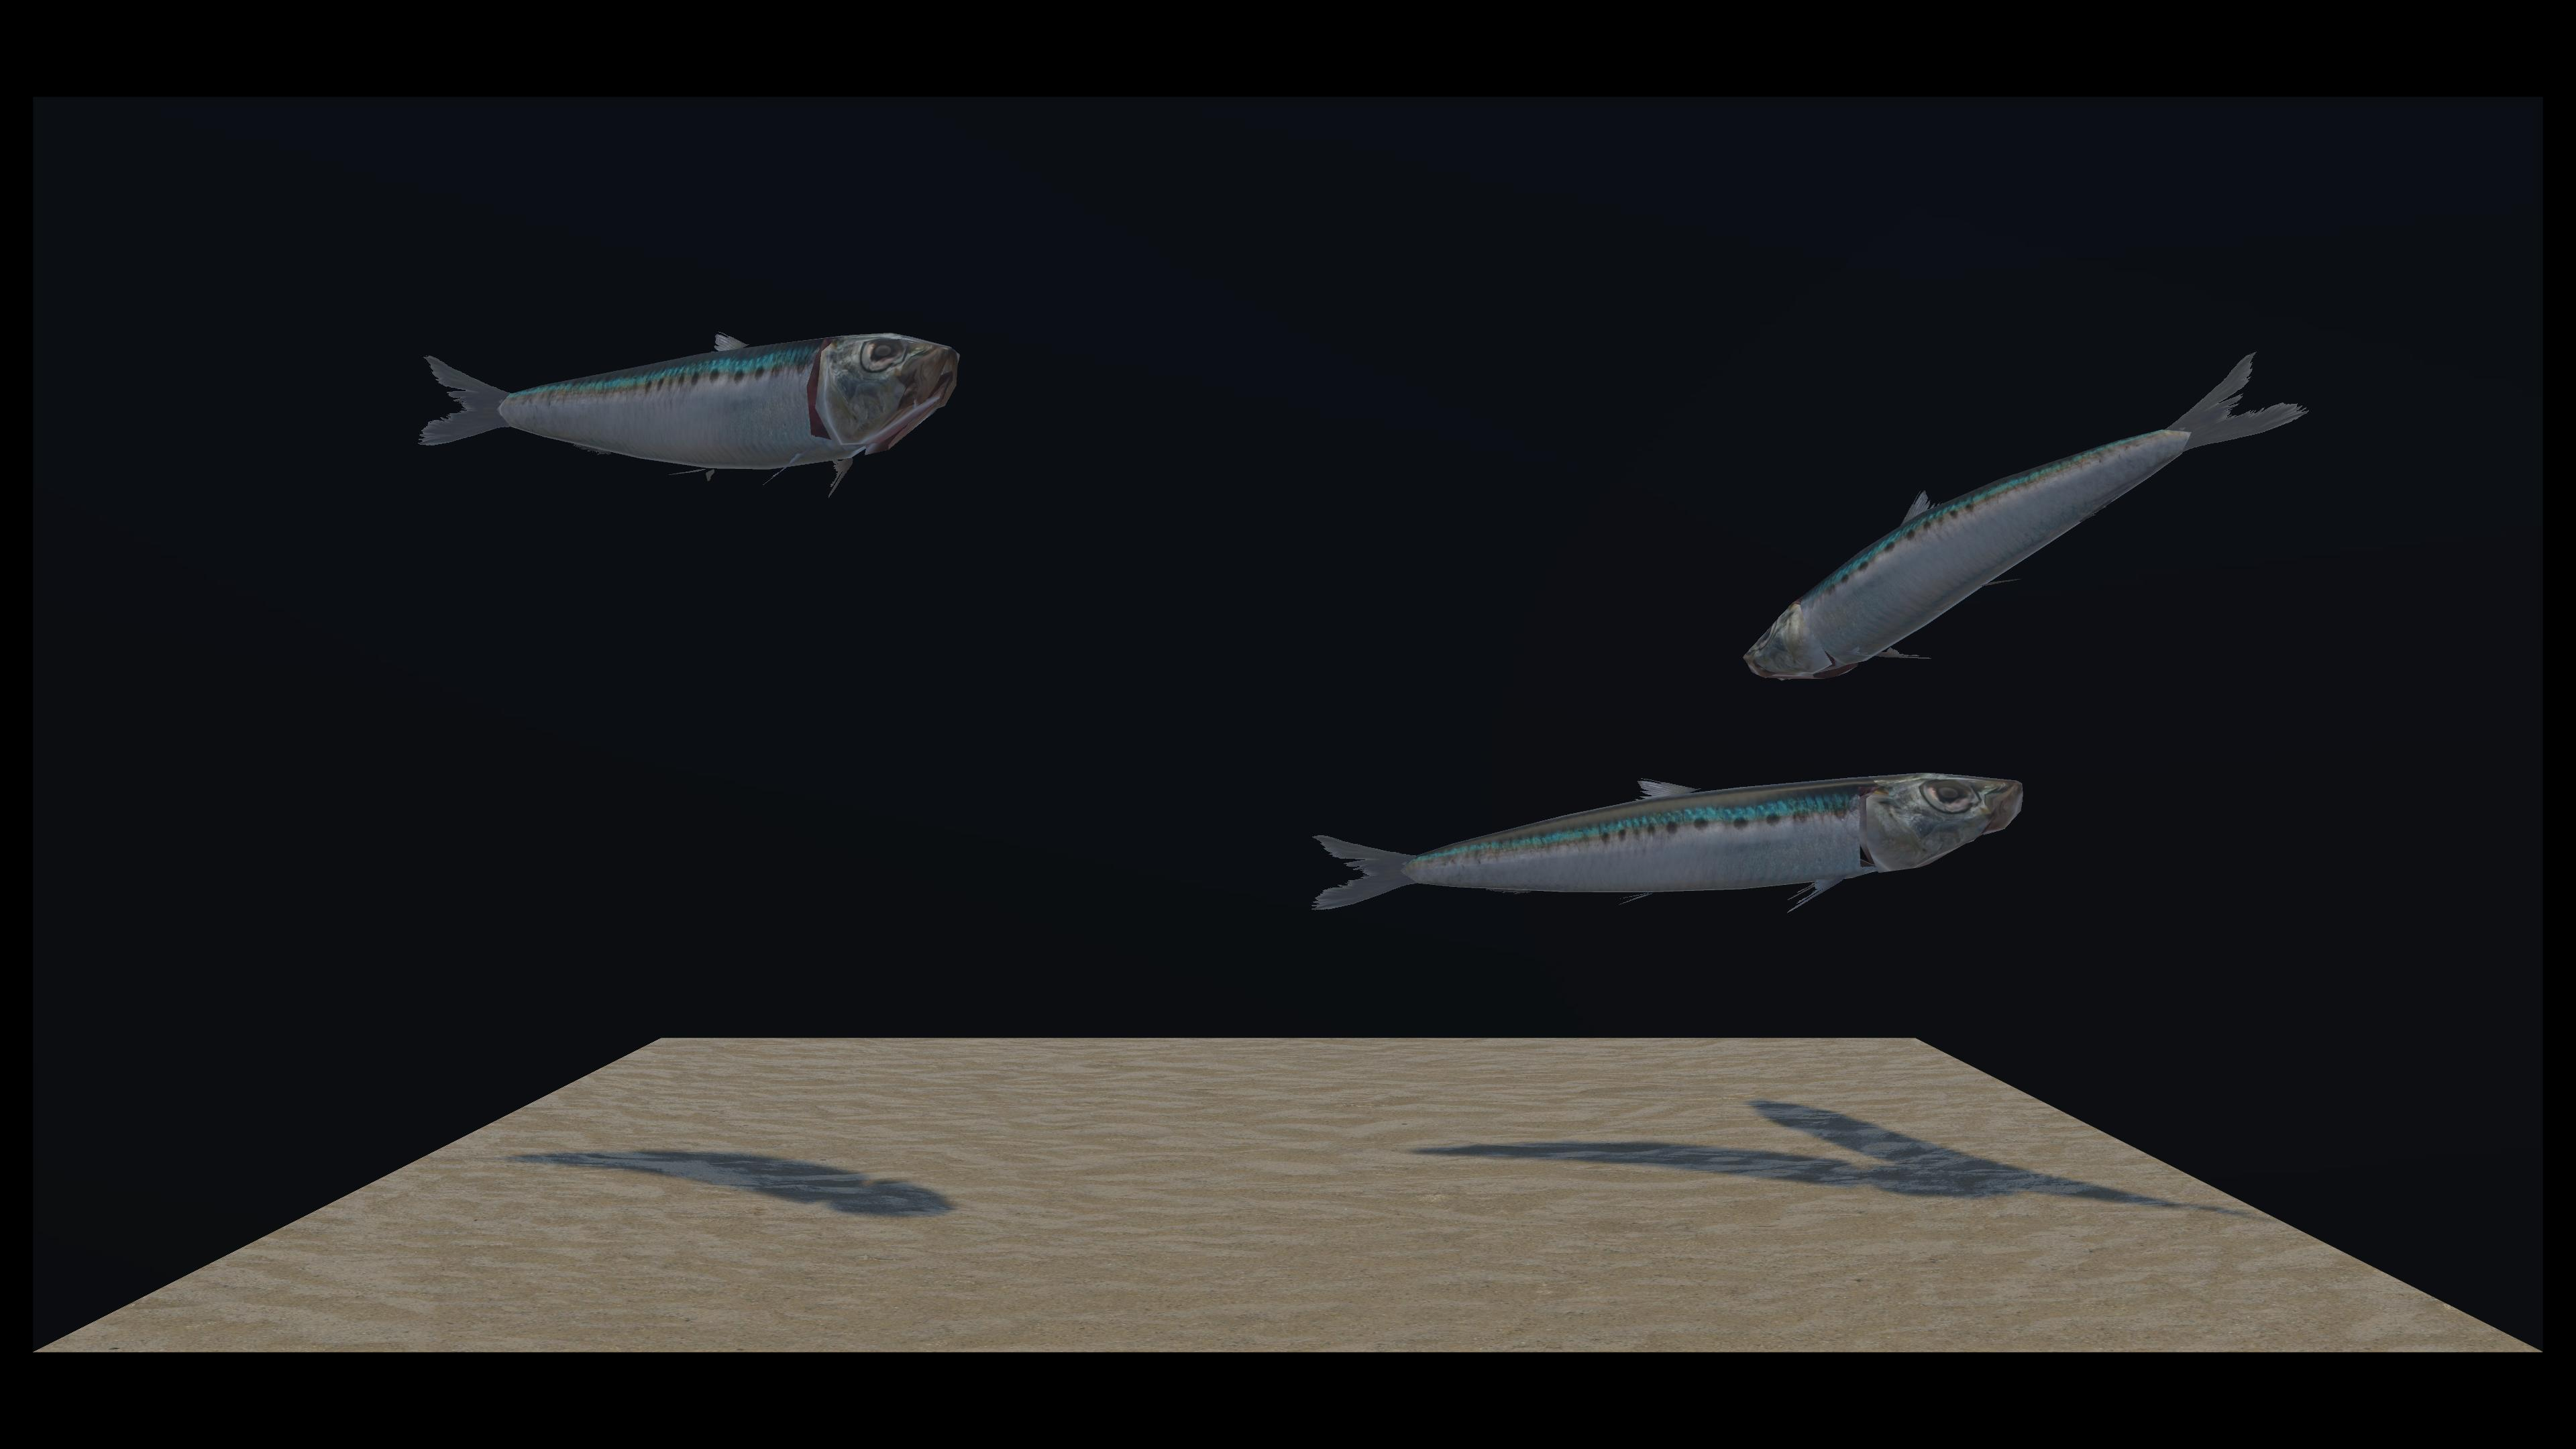Sardine_Front: (922, 359, 2013, 922), (869, 349, 2305, 665), (428, 336, 948, 502)
